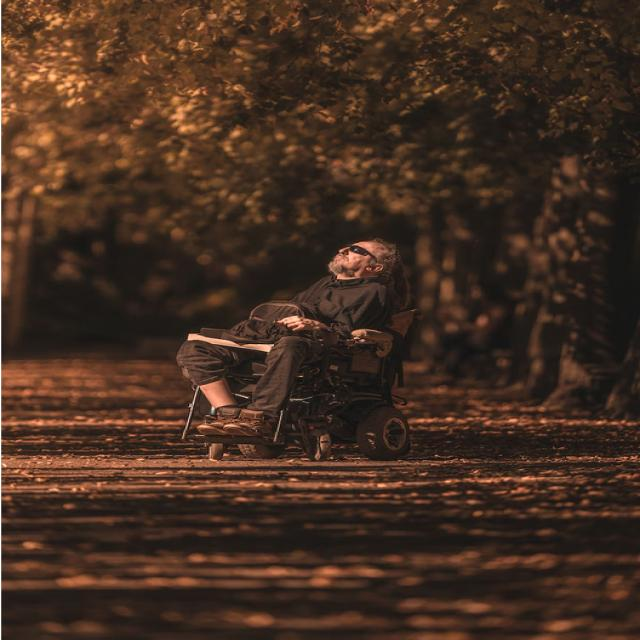wheelchairs: (183, 301, 419, 459)
